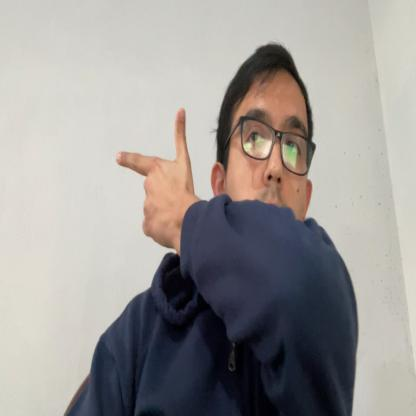G: (116, 107, 191, 248)
